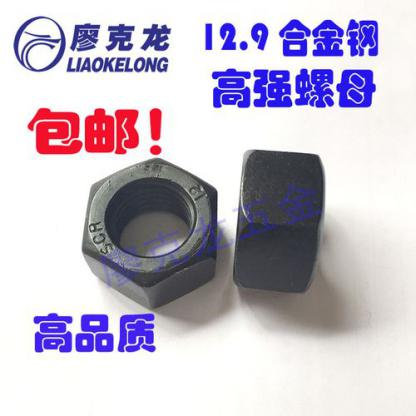FOD: (78, 154, 222, 311), (231, 146, 326, 298)
